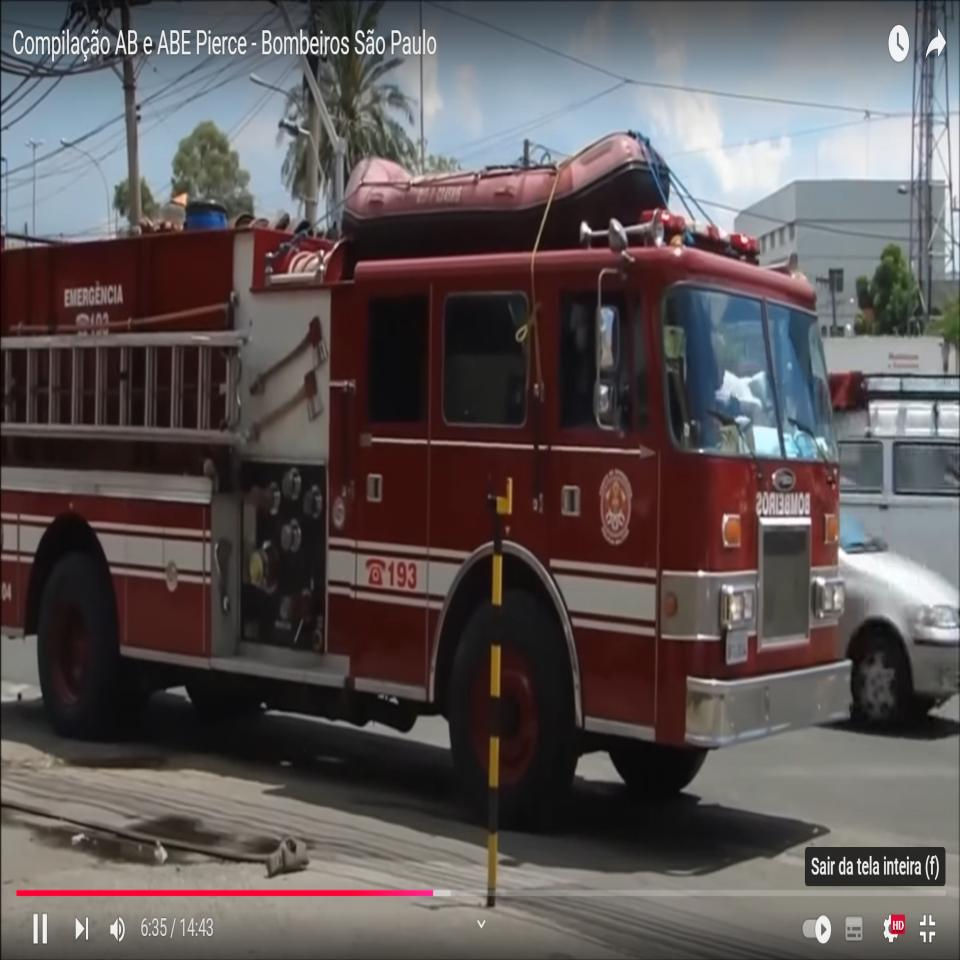viatura: (0, 124, 855, 820)
